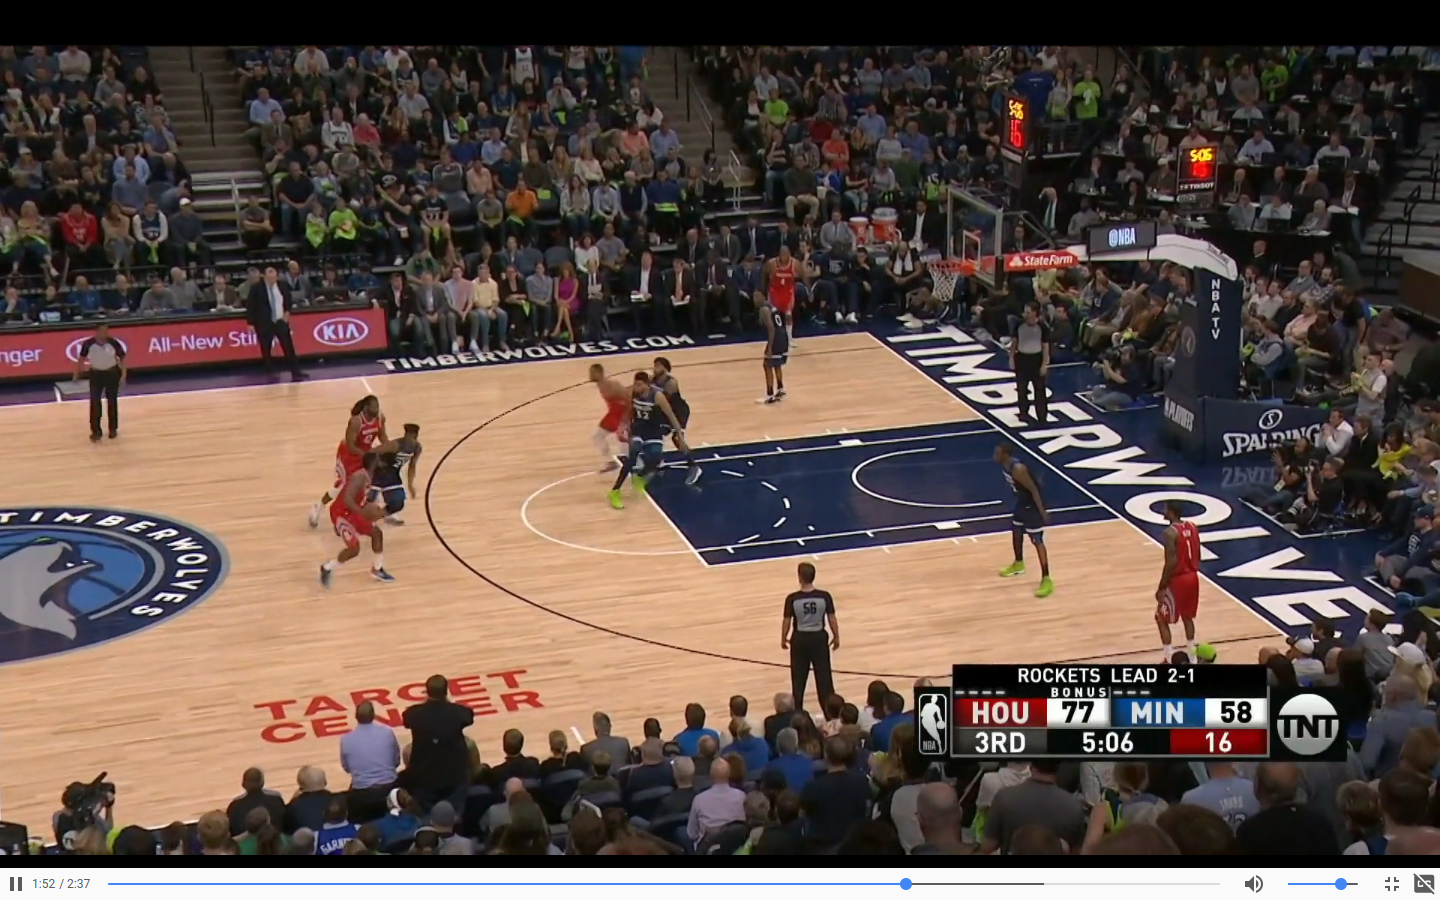player: (990, 449, 1074, 600), (318, 451, 388, 588), (1156, 504, 1213, 650), (375, 429, 425, 524), (753, 295, 794, 407), (325, 399, 388, 470), (632, 376, 664, 512), (591, 364, 625, 477), (771, 250, 813, 306)
referee: (778, 566, 847, 686), (69, 327, 129, 449), (1013, 306, 1052, 433)
